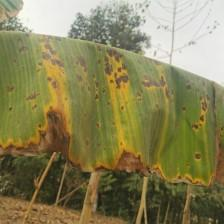pestalotiopsis: (0, 29, 224, 188)
